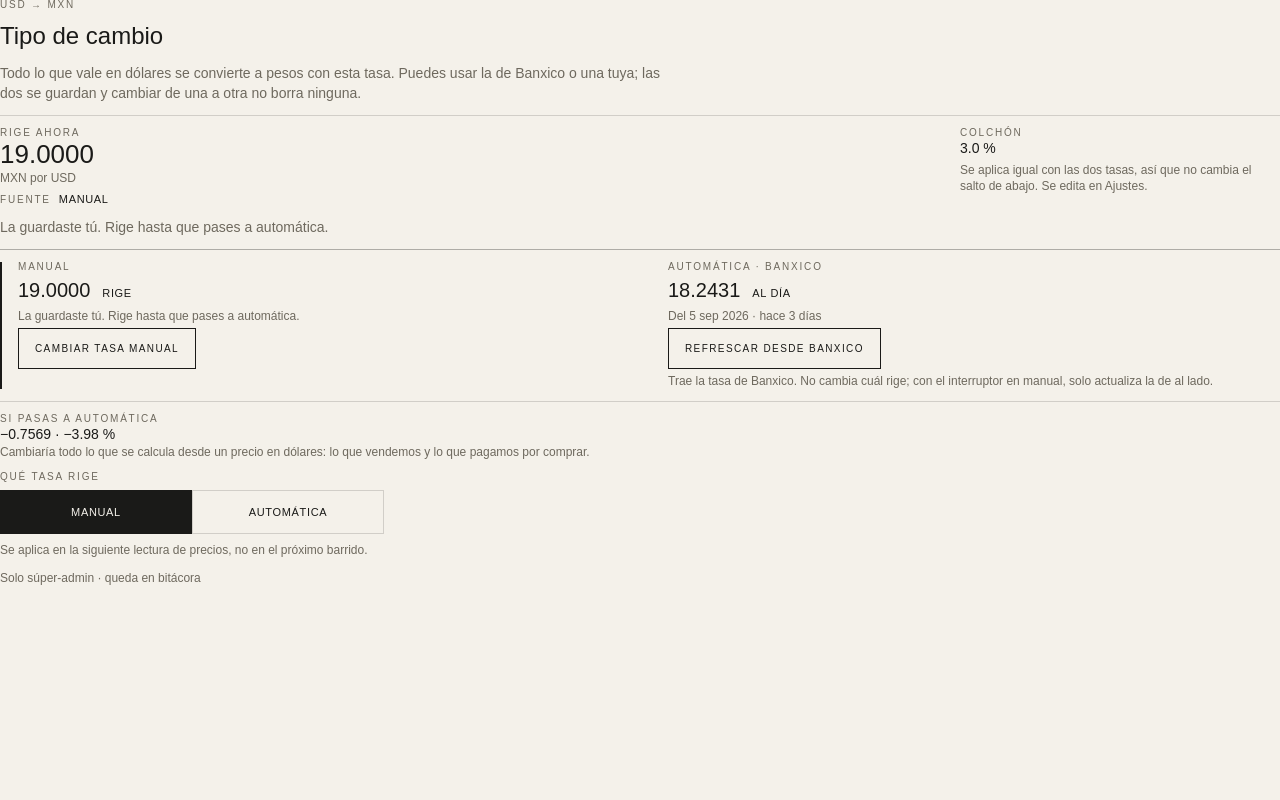
Test case: FX-UI-1 ⭐⭐ · la pantalla NO ofrece el interruptor sin las dos tasas › ⭐ CONTROL POSITIVO: con las dos tasas, el mismo clic abre el diálogo — y sigue habiendo 0 `PUT`
This screenshot has width=1280, height=800.
Click the radio button labelled "AUTOMÁTICA".
click(288, 512)  # box [192,490,384,534]
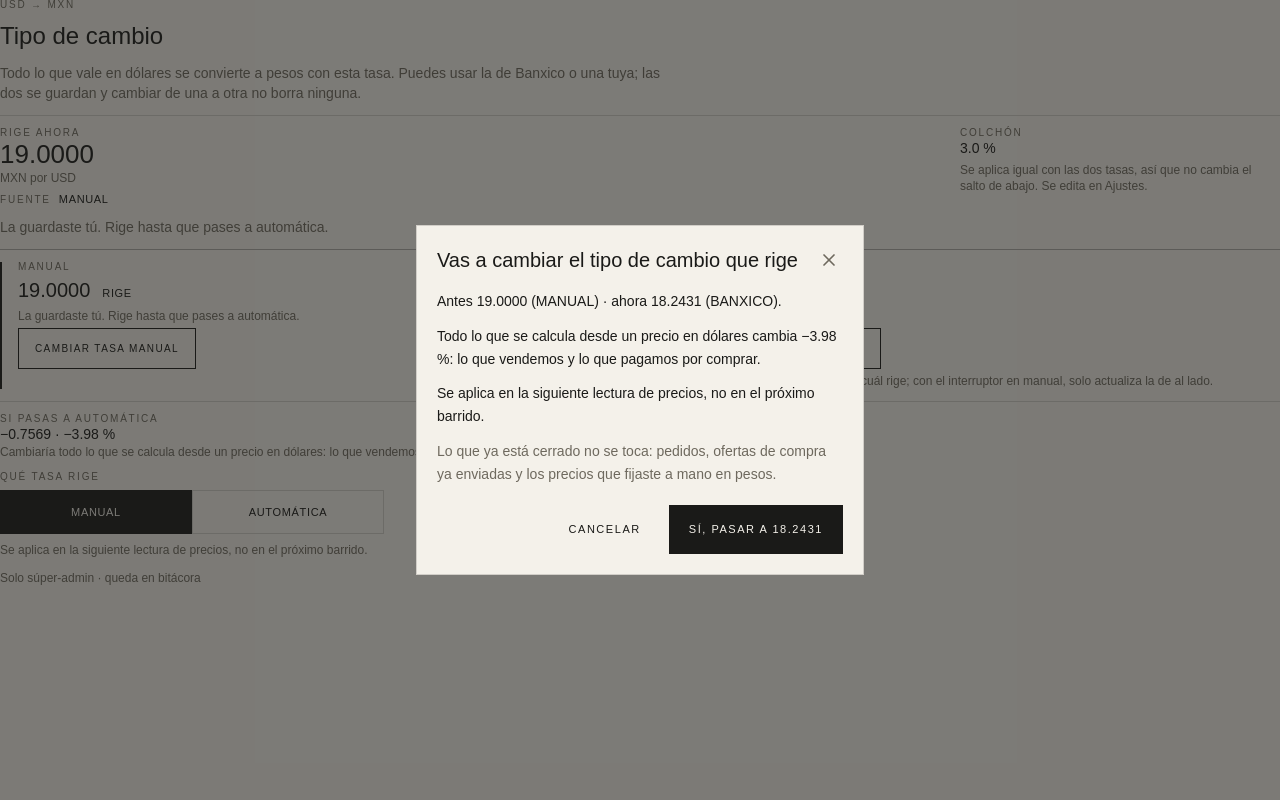
Result: the dialog shows "Vas a cambiar el tipo de cambio que rige" at [437,249,798,271]
